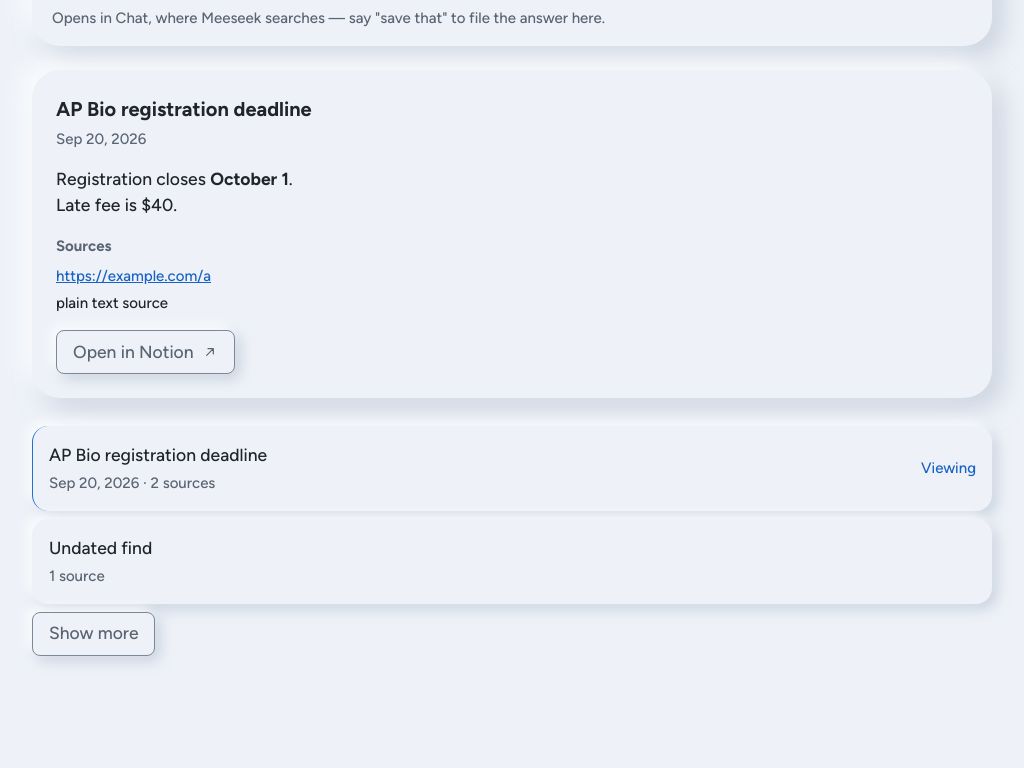
ResearchHubPage › Show more appears only when hasMore, asks for the next page, and disappears when the list is complete
This screenshot has width=1024, height=768.
(page scrolled)
Click the button "Show more". click: (94, 634)
box: [32,612,156,656]
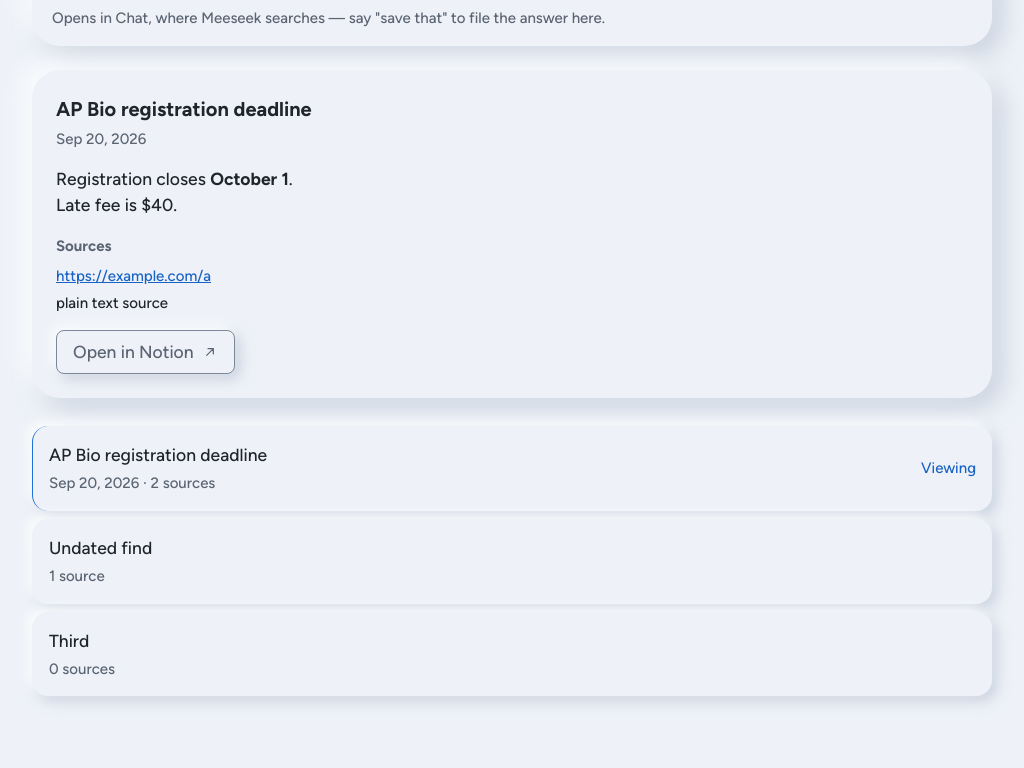
Expected: the text "Third" is shown, [49,630,89,650]
Expected: the button "Show more" is gone
